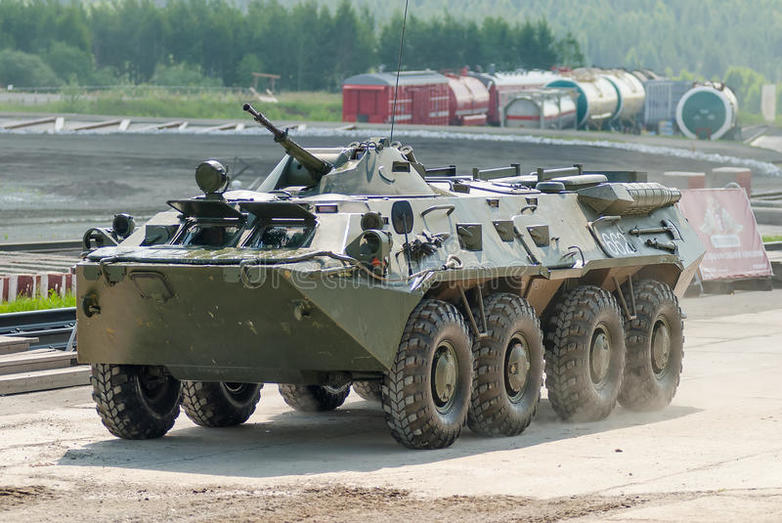btr: (81, 140, 693, 438)
